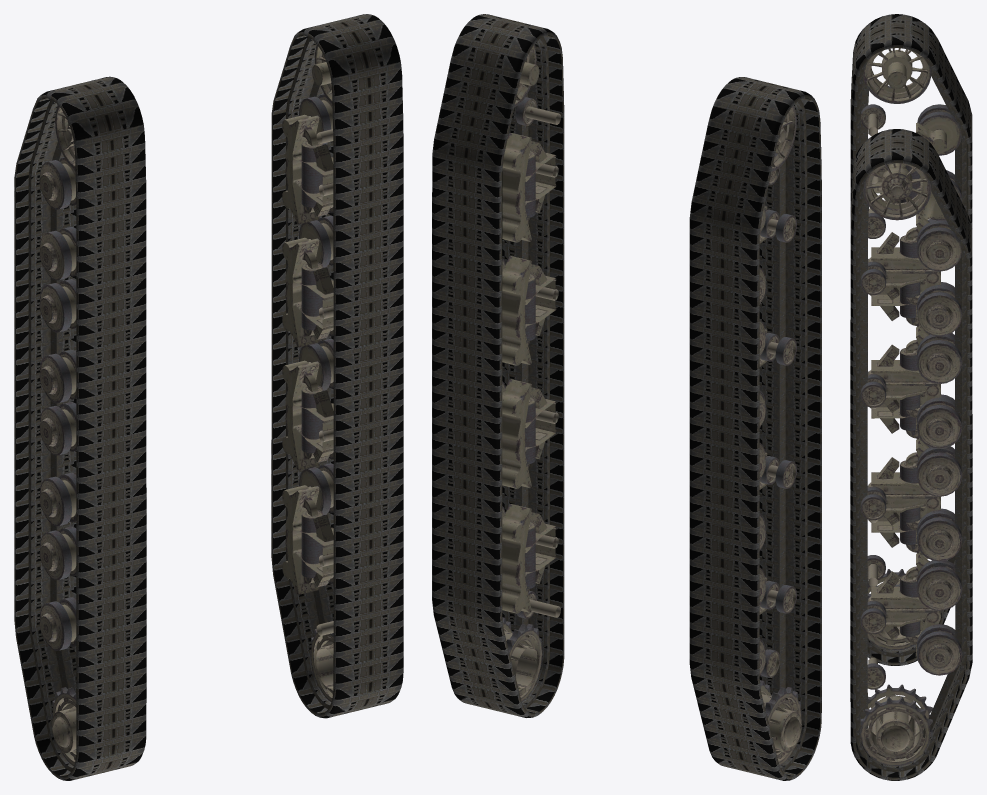
The model's file is Chassis.glb.
The picture shows the model from 3 angles, left to right: view 1: azimuth 30°, elevation 25°; view 2: azimuth 150°, elevation 25°; view 3: azimuth 270°, elevation 25°; orthographic projection. The views are drawn at different scales.
Visible parts, largest first — view 1: set_1_group_0, set_0_group_0, set_5_group_0, set_3_group_0, set_4_group_0; view 2: set_1_group_0, set_0_group_0, set_5_group_0, set_3_group_0, set_4_group_0; view 3: set_5_group_0, set_0_group_0, set_3_group_0, set_1_group_0, set_4_group_0.
Boxes of the visible parts, box(x1,y1,x2,y2) form: set_1_group_0: box(14, 76, 146, 780); set_0_group_0: box(271, 14, 403, 718); set_5_group_0: box(282, 45, 333, 702); set_3_group_0: box(39, 105, 76, 765); set_4_group_0: box(282, 360, 319, 470); set_1_group_0: box(689, 77, 821, 780); set_0_group_0: box(432, 14, 564, 717); set_5_group_0: box(502, 45, 560, 701); set_3_group_0: box(759, 105, 801, 765); set_4_group_0: box(502, 379, 531, 488); set_5_group_0: box(860, 163, 962, 765); set_0_group_0: box(850, 129, 972, 780); set_3_group_0: box(861, 48, 962, 650); set_1_group_0: box(850, 14, 972, 665); set_4_group_0: box(913, 439, 940, 542).
Bounding box in the file's own units: 3.85 × 7.7 × 1.37.
6 materials, 6 textured.
